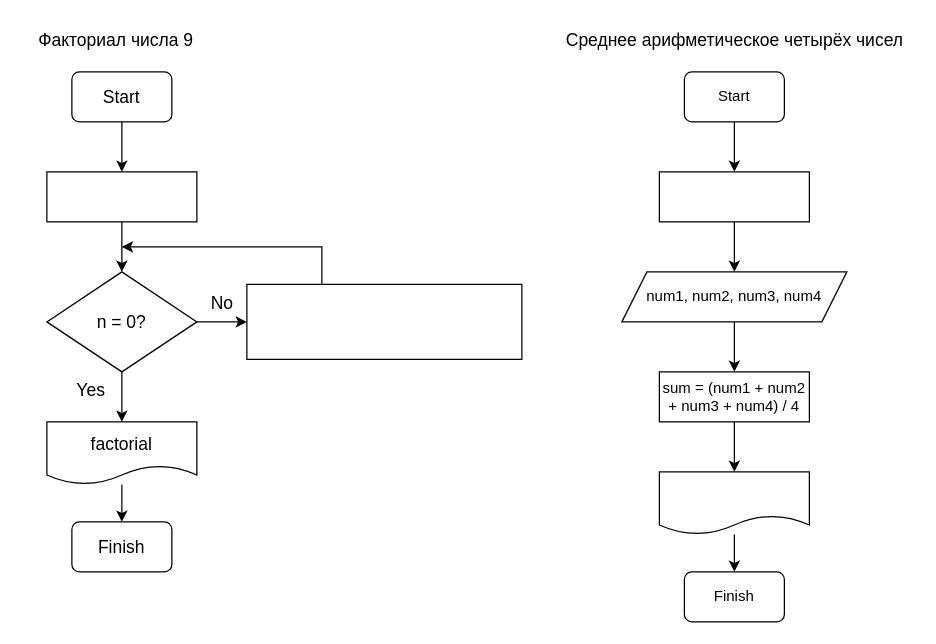
This 936x644 diagram has some shape labels left out. The shapes that lost their labels are listed below. From the top down, each one's centre as x and y in pixels, then its label:
(121,196): n = 9 factorial = 1
(733,196): sum = 0
(384,321): factorial = factorial * n n = n - 1
(733,502): sum
